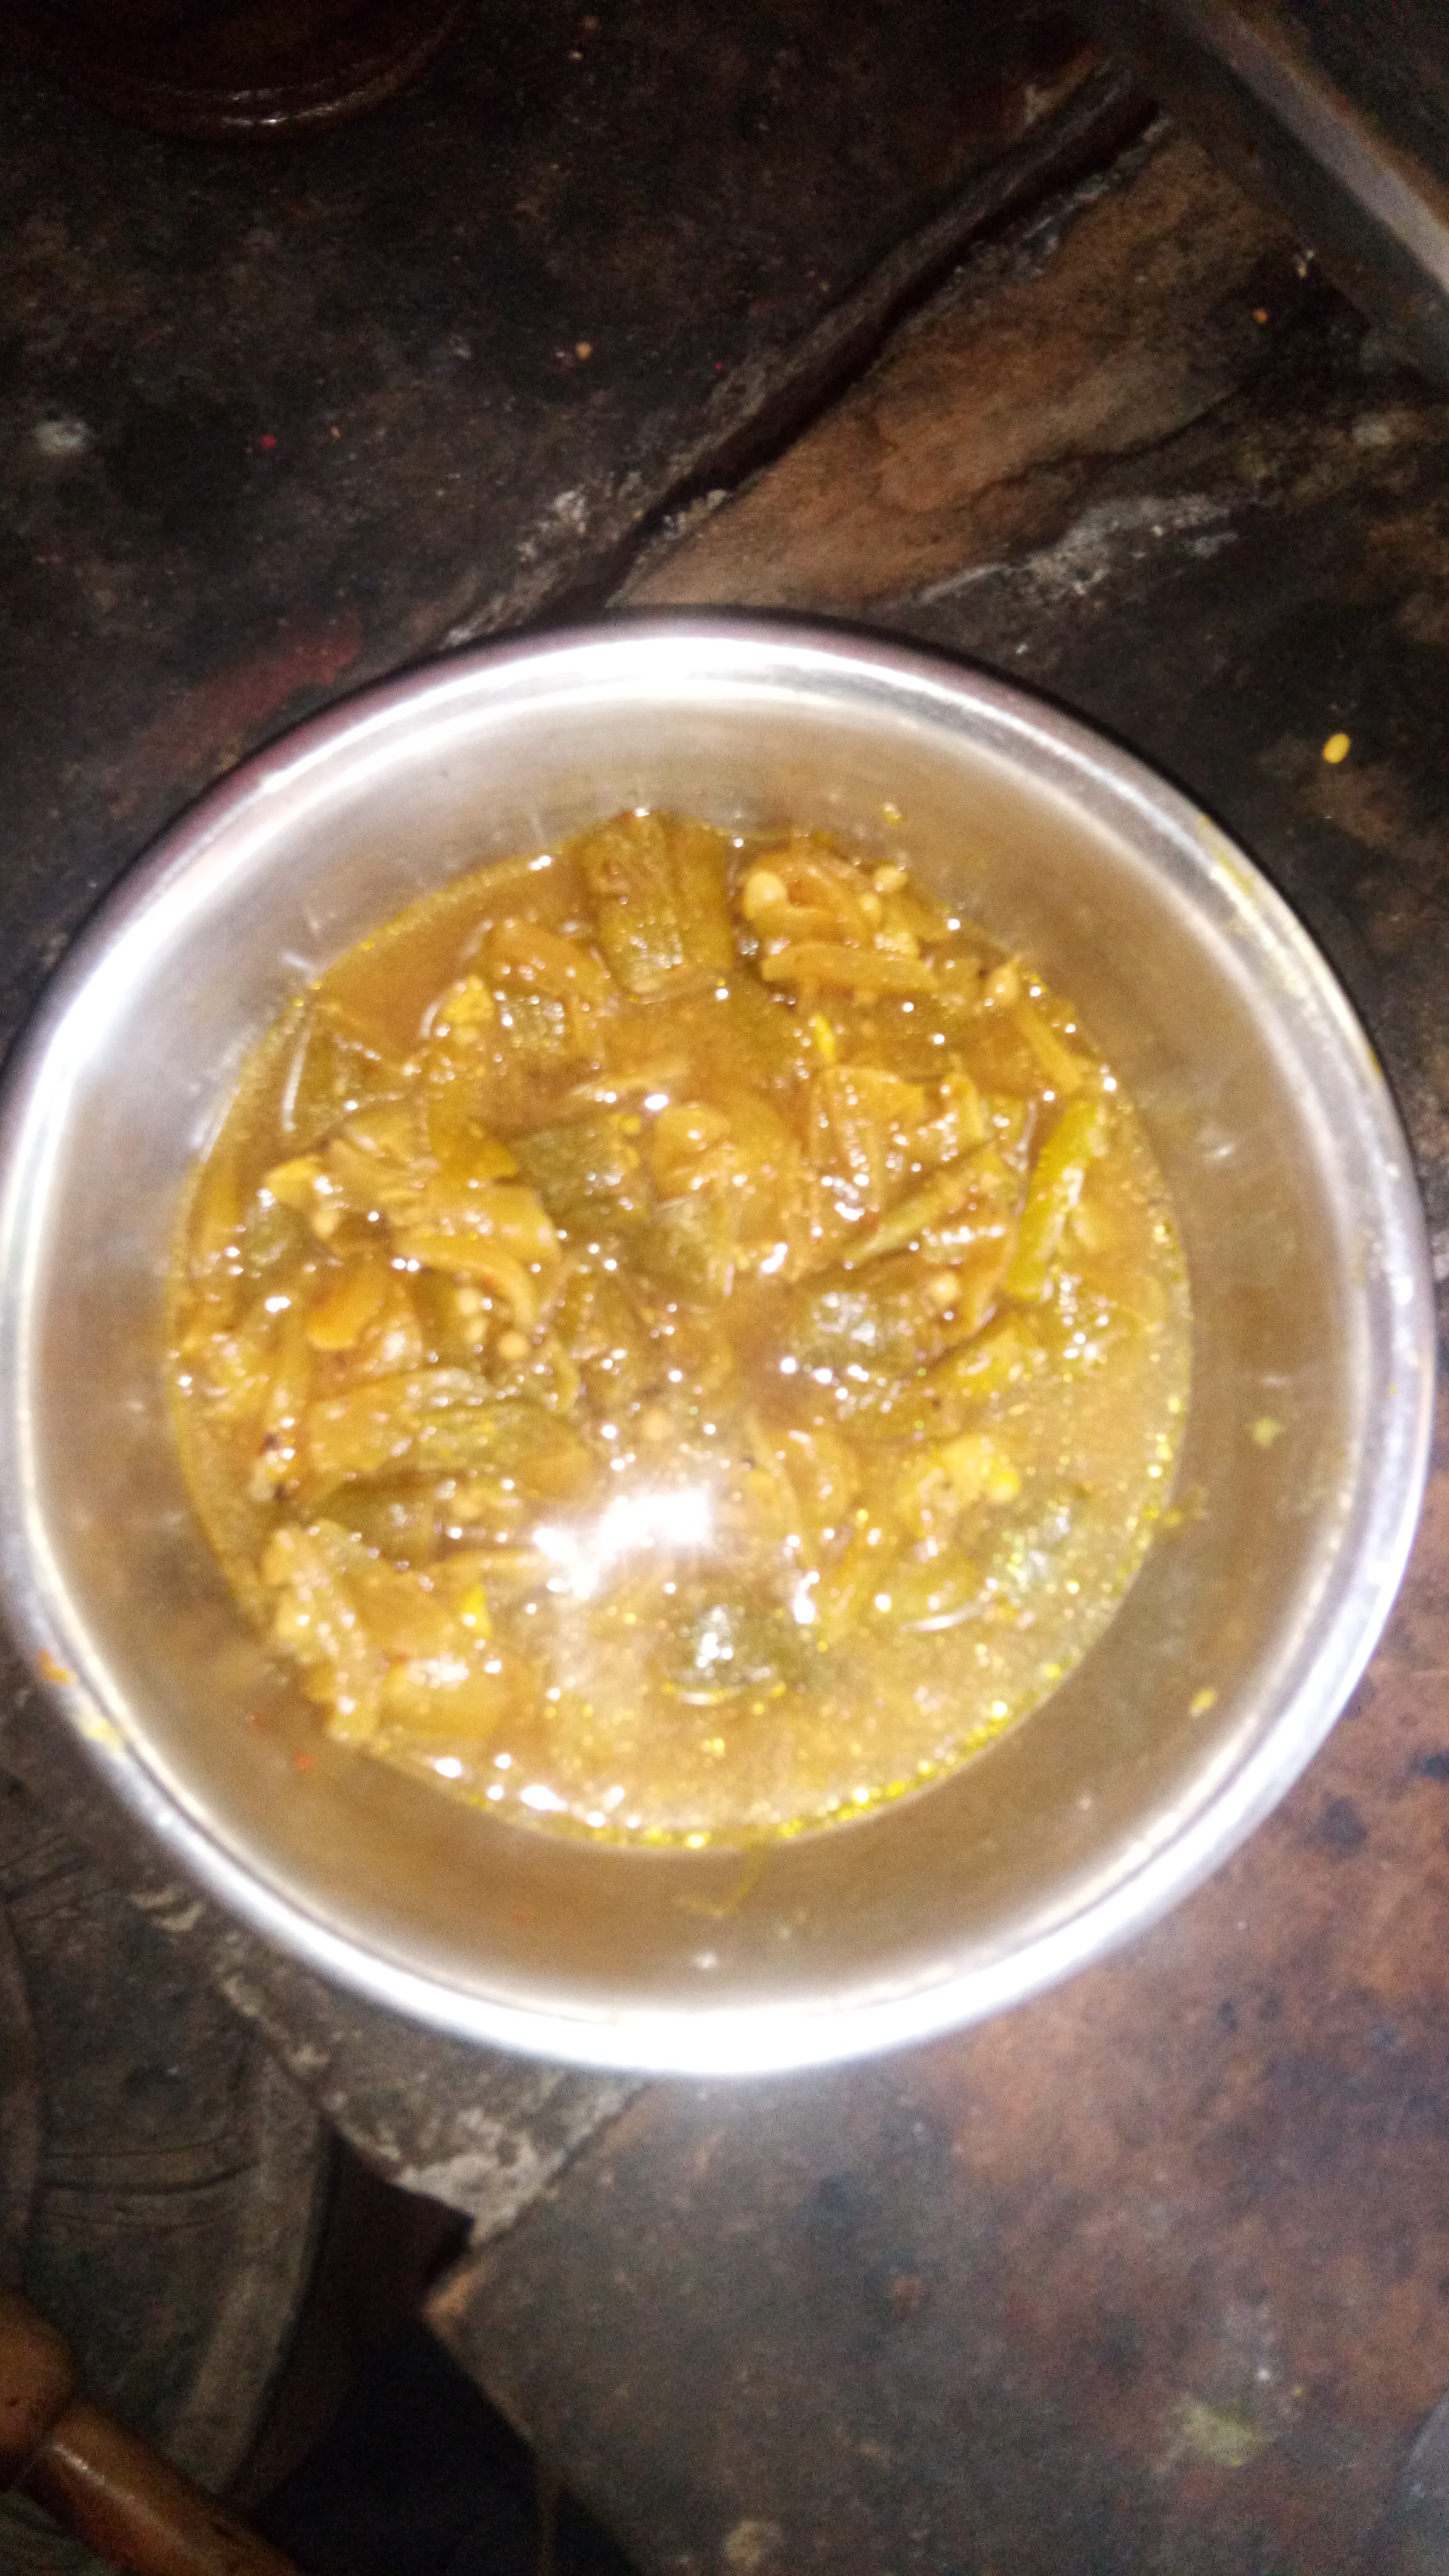food: (147, 789, 1208, 1877)
